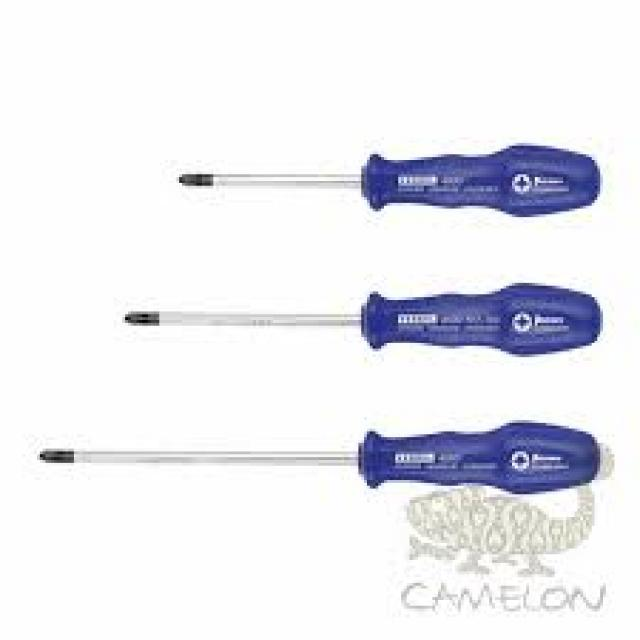screwdriver: (35, 420, 608, 497), (120, 281, 608, 356), (176, 143, 609, 220)
